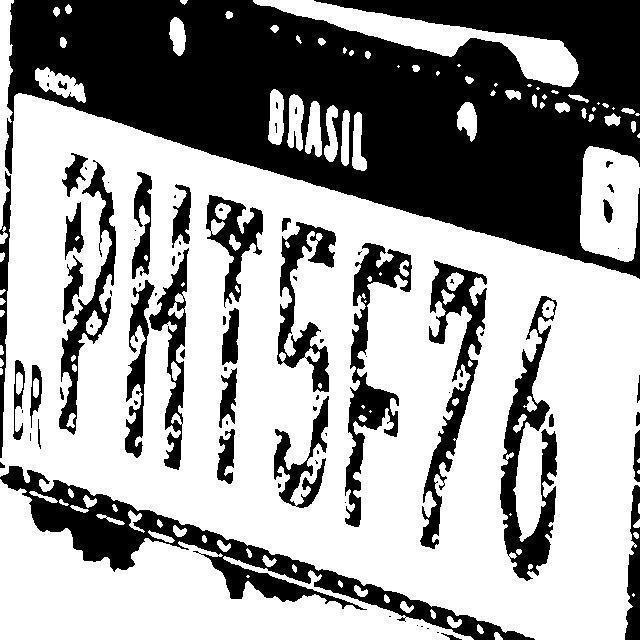5: (264, 220, 344, 515)
6: (494, 290, 567, 576)
7: (402, 257, 494, 557)
f: (336, 240, 418, 536)
h: (124, 186, 196, 480)
p: (48, 168, 122, 454)
t: (197, 202, 266, 498)
